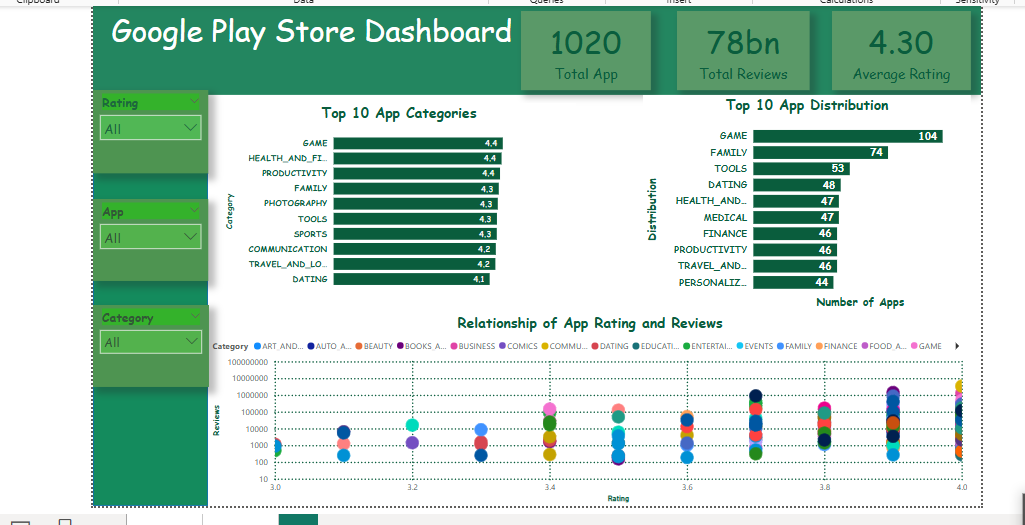

What the dashboard file says about the page in this screenshot:
{"tool":"powerbi","page":{"name":"Page 1","canvas":[1280,720],"ordinal":0},"visuals":[{"type":"textbox","box":[0,0,1280.2,128.2],"z":0},{"type":"card","fields":{"Values":["Avg(merged_data.Rating)"]},"box":[1064.7,6.8,199.9,114.5],"z":1000},{"type":"card","fields":{"Values":["Sum(merged_data.Reviews)"]},"box":[840.8,6.8,191.4,114.5],"z":2000},{"type":"card","fields":{"Values":["Count(merged_data.App)"]},"box":[616.3,7.2,187.2,113.8],"z":3000},{"type":"clusteredBarChart","title":"Top 10 App Distribution ","fields":{"Category":["merged_data.Category"],"Y":["Count(merged_data.App)"]},"box":[792,128.2,472.3,313.9],"z":4000},{"type":"clusteredBarChart","title":"Top 10 App  Categories","fields":{"Category":["merged_data.Category"],"Y":["Avg(merged_data.Rating)"]},"box":[185.8,139.7,509.8,276.5],"z":5000},{"type":"shape","box":[0,139.7,165.6,580.3],"z":6000},{"type":"scatterChart","title":"Relationship of App Rating and Reviews ","fields":{"X":["merged_data.Rating"],"Y":["merged_data.Reviews"],"Series":["merged_data.Category"]},"box":[167,442.1,1097.3,277.9],"z":7000},{"type":"slicer","fields":{"Values":["merged_data.Rating"]},"box":[0,121,165.6,119.5],"z":8000},{"type":"slicer","fields":{"Values":["merged_data.App"]},"box":[0,277.9,165.6,118.1],"z":9000},{"type":"slicer","fields":{"Values":["merged_data.Category"]},"box":[0,430.6,167,118.1],"z":10000}]}

Visuals, with their boxes in screenshot pixels (x1, y1, x2, y2):
textbox: x1=88, y1=3, x2=977, y2=92
card - Avg(merged_data.Rating): x1=828, y1=7, x2=967, y2=87
card - Sum(merged_data.Reviews): x1=672, y1=7, x2=805, y2=87
card - Count(merged_data.App): x1=516, y1=8, x2=646, y2=87
"Top 10 App Distribution " clusteredBarChart: x1=638, y1=92, x2=966, y2=310
"Top 10 App  Categories" clusteredBarChart: x1=217, y1=100, x2=571, y2=292
shape: x1=88, y1=100, x2=203, y2=503
"Relationship of App Rating and Reviews " scatterChart: x1=204, y1=310, x2=966, y2=503
slicer - merged_data.Rating: x1=88, y1=87, x2=203, y2=170
slicer - merged_data.App: x1=88, y1=196, x2=203, y2=278
slicer - merged_data.Category: x1=88, y1=302, x2=204, y2=384
